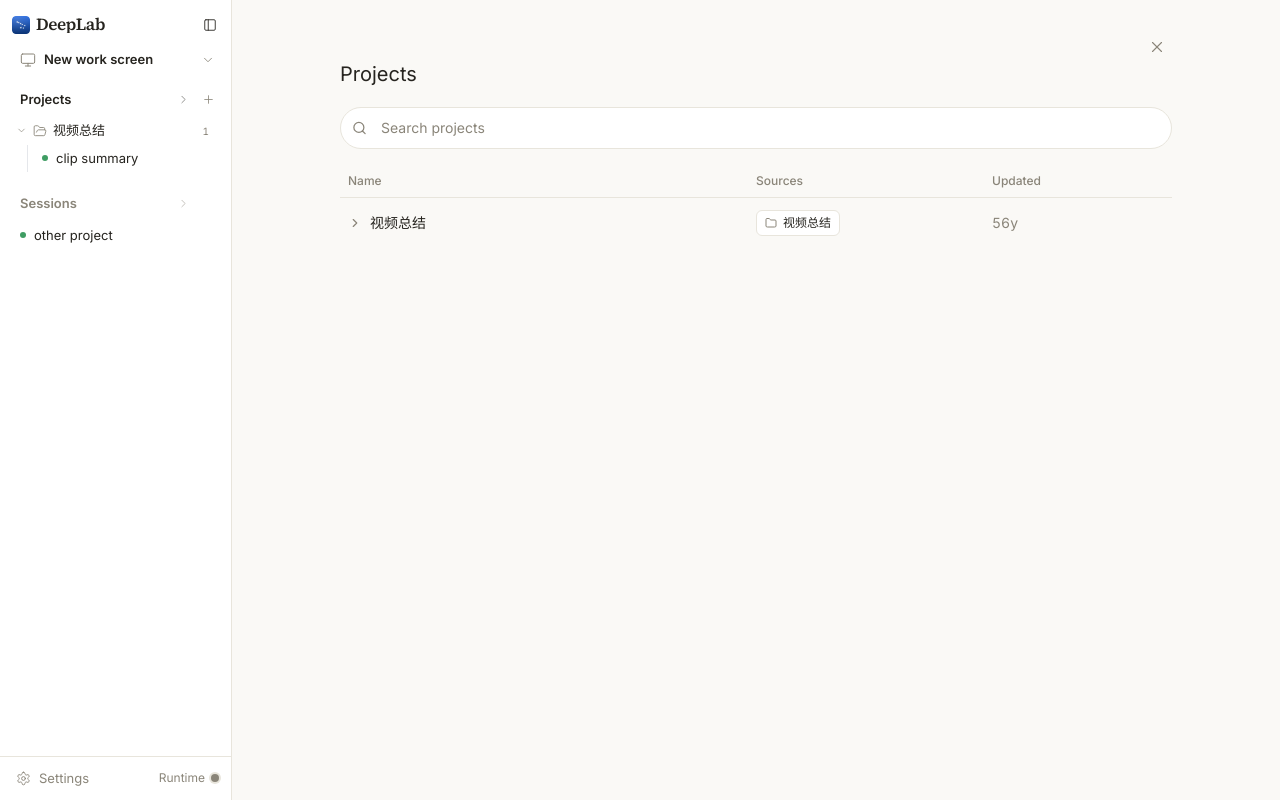
it: ProjectsPage › expands a Windows project's sessions across the two path spellings (#76)
This screenshot has width=1280, height=800.
Expected: the field with placeholder "Search projects" is shown, [340, 107, 1172, 149]
Click the 2nd button "视频总结" at (387, 223), box [348, 213, 426, 233]
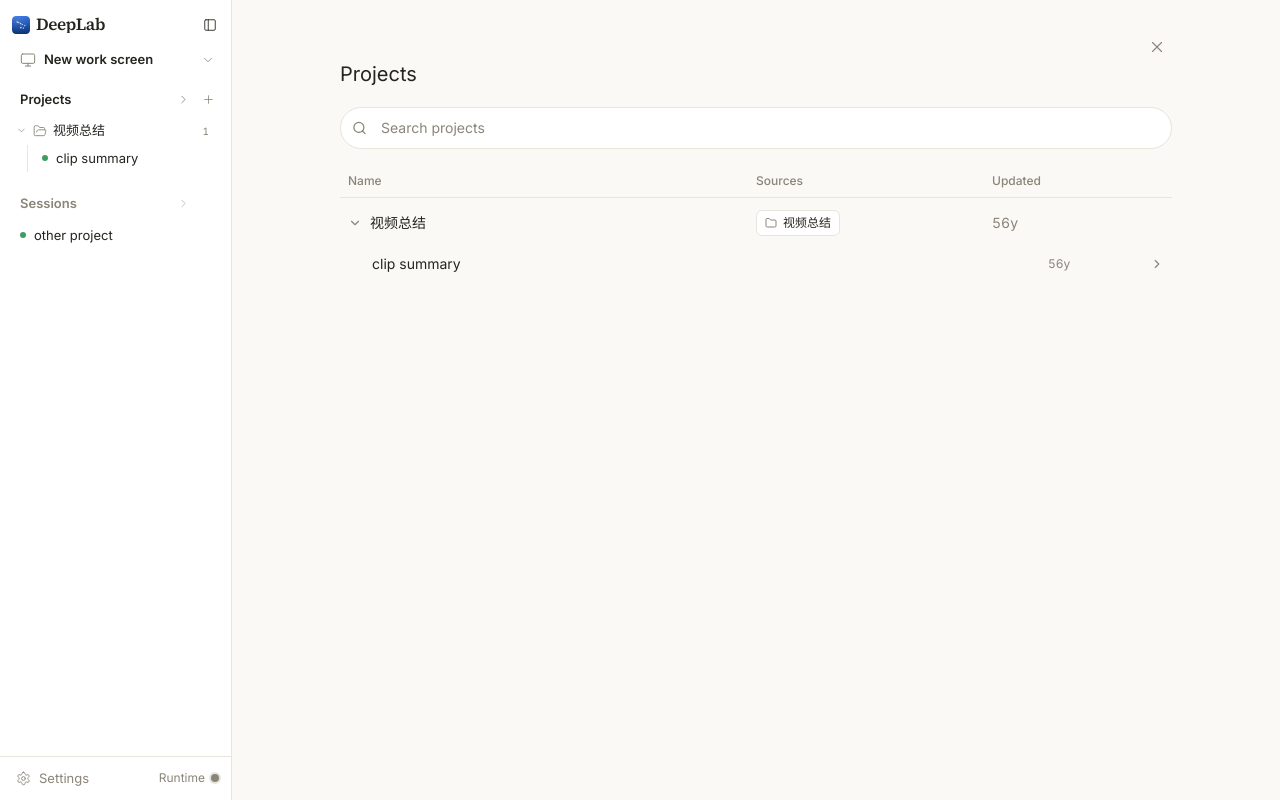
Result: the text "clip summary" below "Name" is shown at [372, 255, 461, 272]
